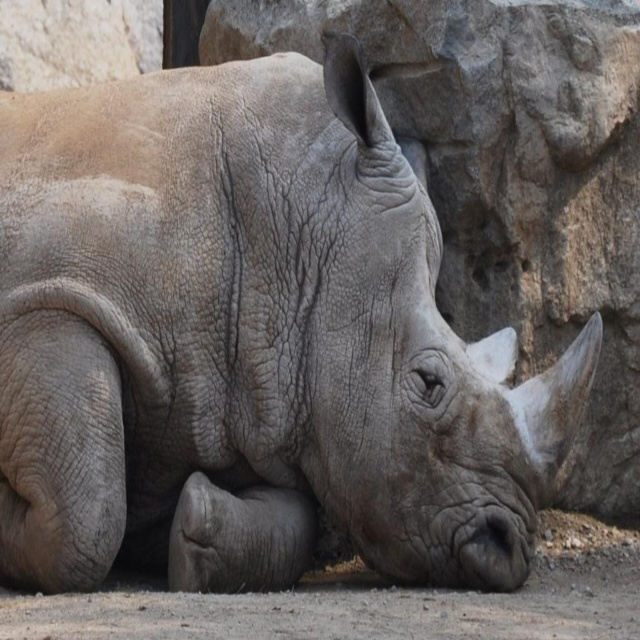Rhinoceros: (0, 29, 606, 598)
